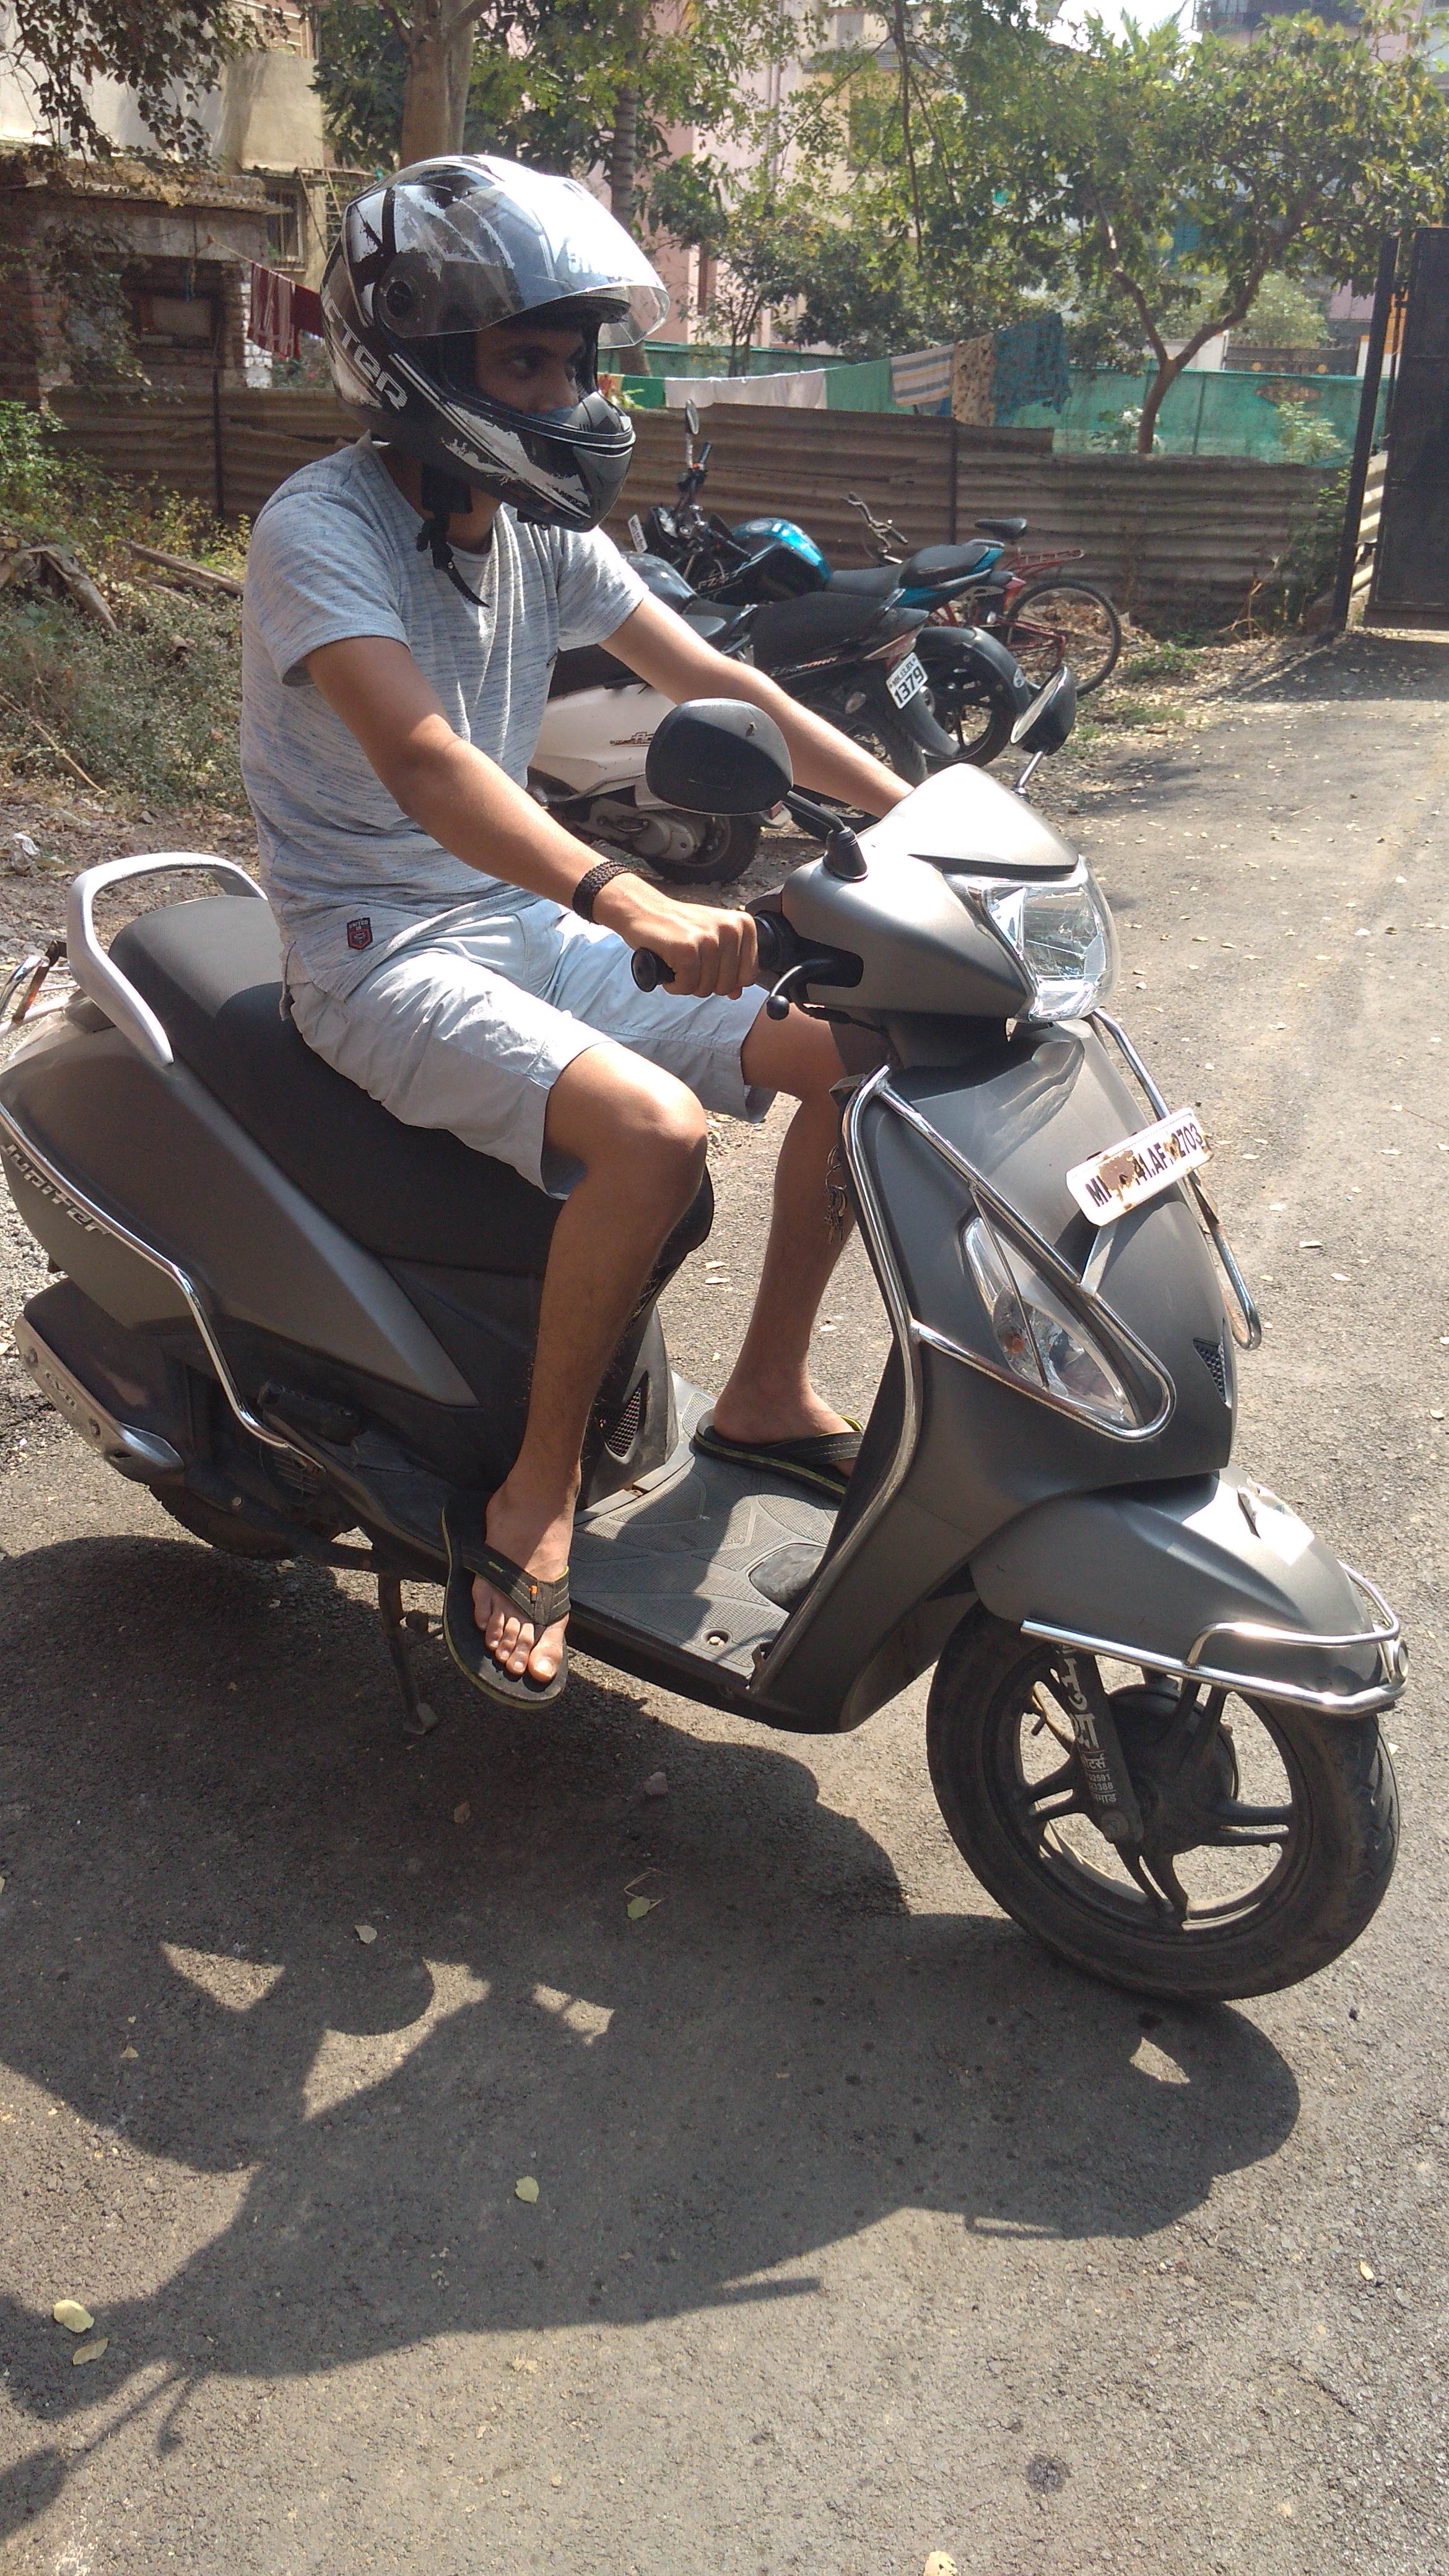helmet: (225, 124, 720, 1062)
